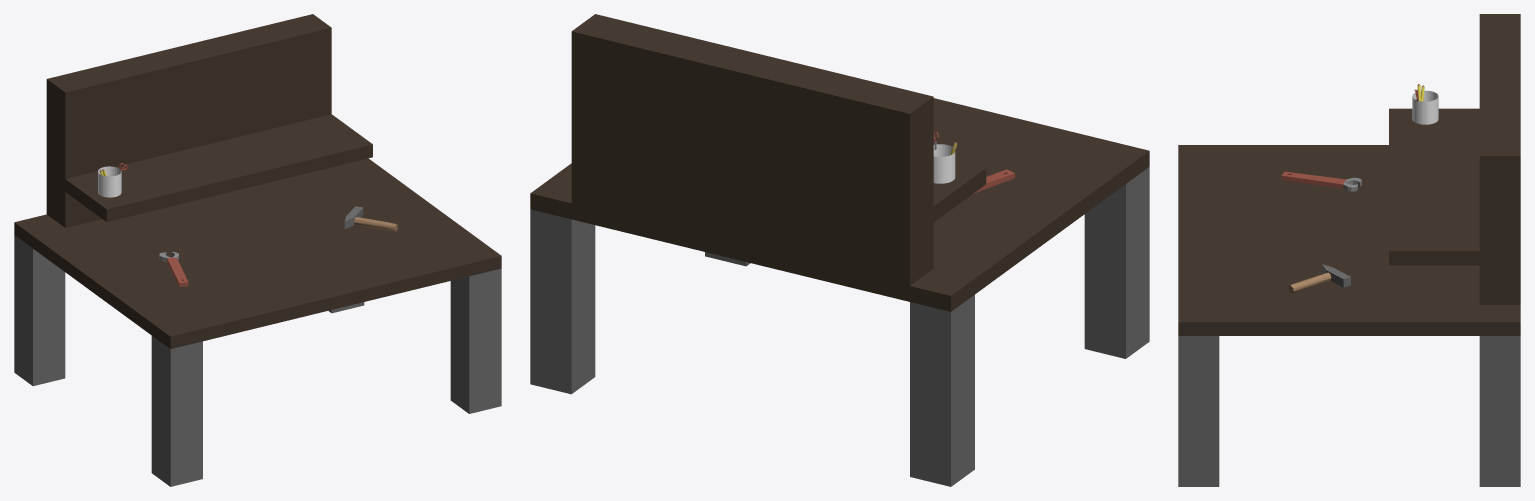
Rendered from Workbench.fbx.
3 renders of one model, left to right at view 1: azimuth 30°, elevation 25°; view 2: azimuth 150°, elevation 25°; view 3: azimuth 270°, elevation 25°, orthographic. The views are drawn at different scales.
Parts seen in each view (by area): view 1: Workbench; view 2: Workbench; view 3: Workbench.
Boxes of the visible parts, x1,y1,x2,y2 form: Workbench: [14, 14, 501, 486]; Workbench: [530, 14, 1149, 486]; Workbench: [1178, 14, 1520, 486].
Bounding box in the file's own units: 610 × 503 × 498.
